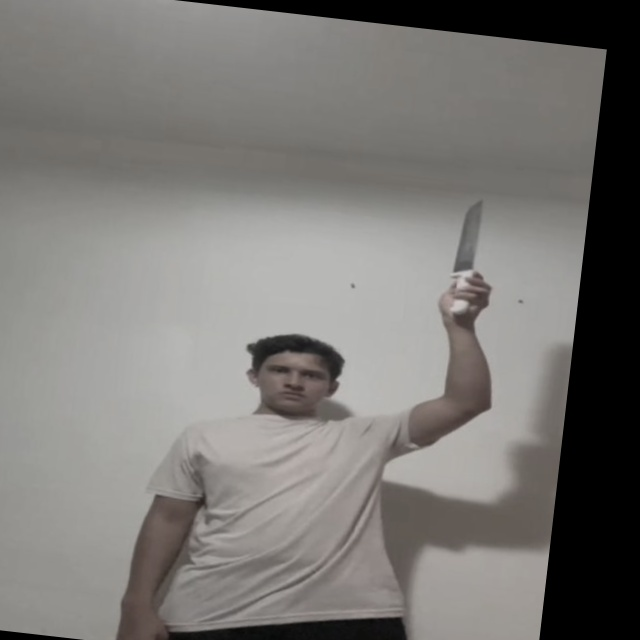Sharp-Object: (453, 196, 487, 269)
